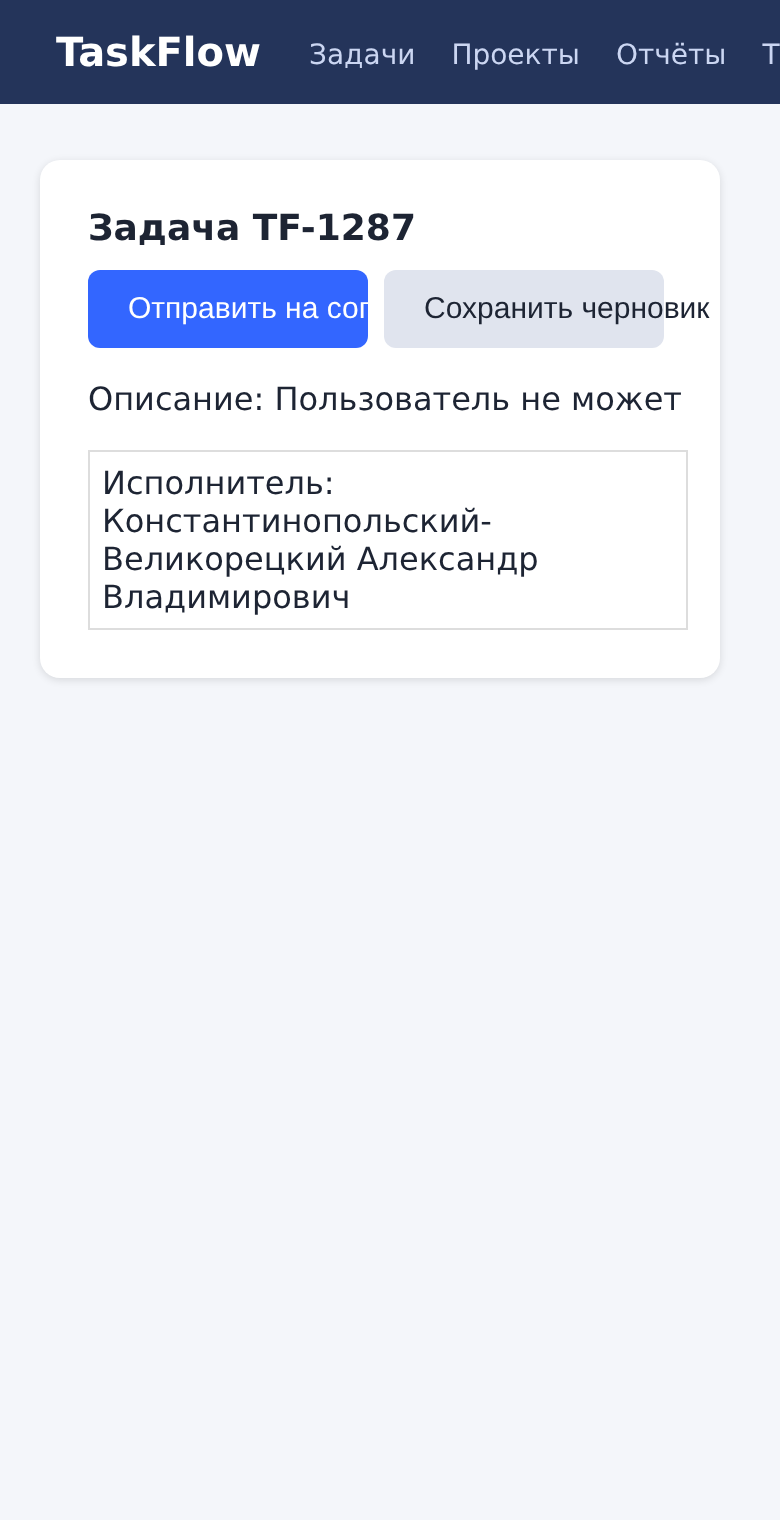DEFECT_AREA: (128, 296, 710, 324), (89, 386, 681, 411), (762, 43, 780, 64)
PII: (105, 507, 537, 615)
UI_ELEMENT: (88, 270, 368, 348), (384, 270, 664, 348)
